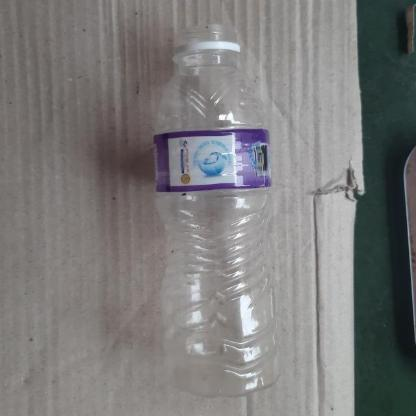Plastic Bottle: (154, 25, 284, 399)
